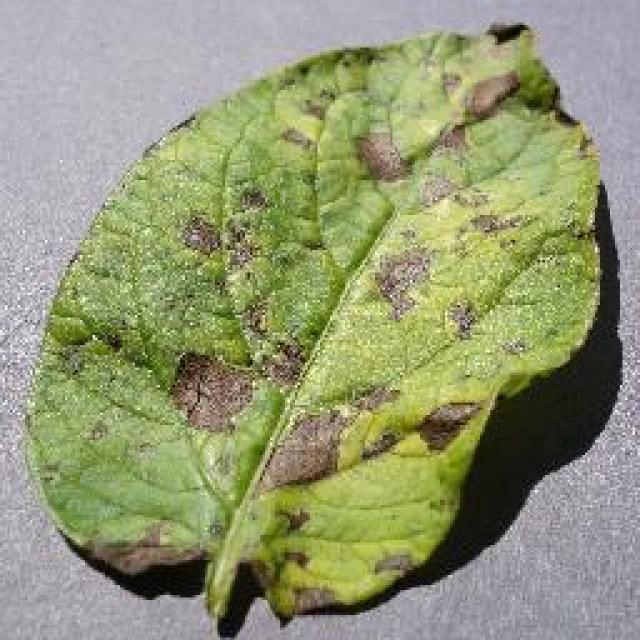early_blight: (20, 18, 608, 630)
